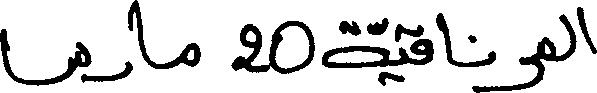X: (0, 24, 90, 90), (323, 13, 388, 90), (269, 16, 314, 78), (105, 2, 130, 85), (234, 19, 267, 77), (520, 37, 540, 92), (580, 2, 596, 58), (412, 20, 430, 69), (439, 8, 452, 69), (561, 9, 575, 65), (136, 0, 145, 65), (542, 32, 553, 84), (184, 38, 200, 71), (400, 19, 407, 86), (487, 46, 494, 92)
